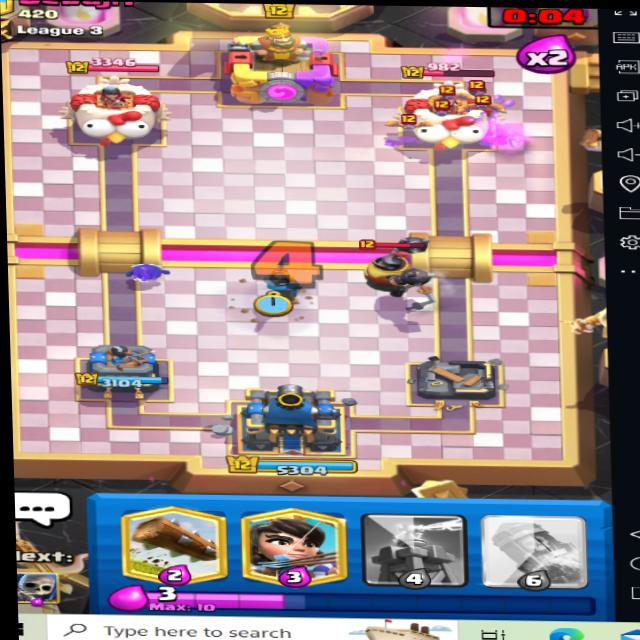bats: (385, 105, 431, 138), (460, 77, 496, 98), (466, 96, 497, 120), (420, 98, 450, 119), (433, 84, 462, 101)
mega-knight: (339, 238, 439, 303)
